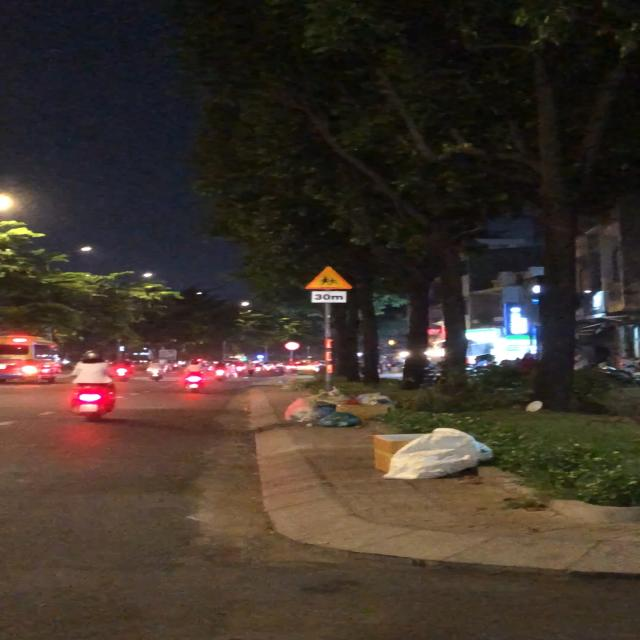Bien bao tre em: (301, 264, 353, 291)
